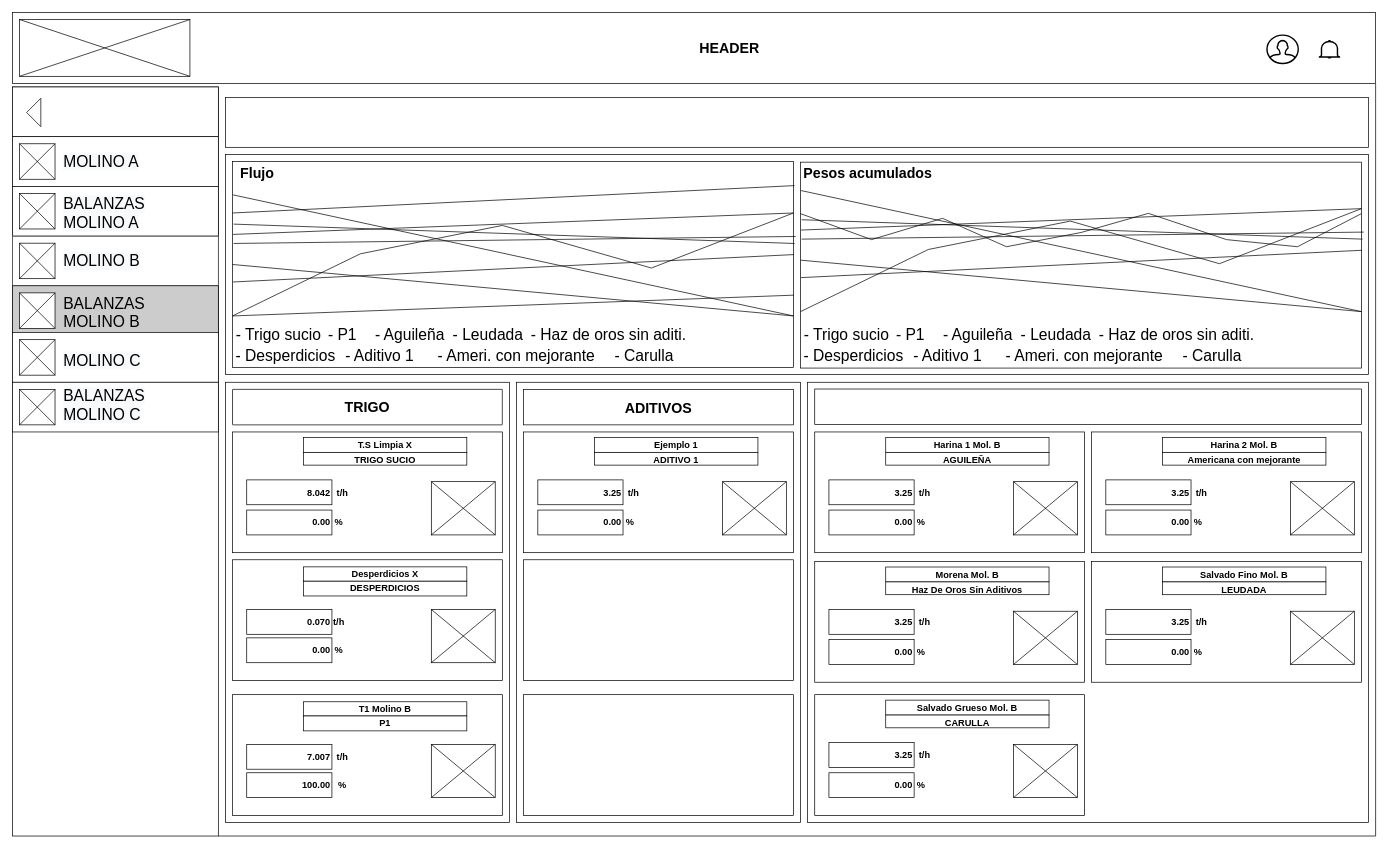
This 1389x849 diagram has some shape labels left out. Each missing label, with the centre of its shape:
"IMAGEN" goes at point 104,47.
"MOLINO #B" goes at point 797,122.
"PRODUCTOS FINALES" goes at point 1087,406.
